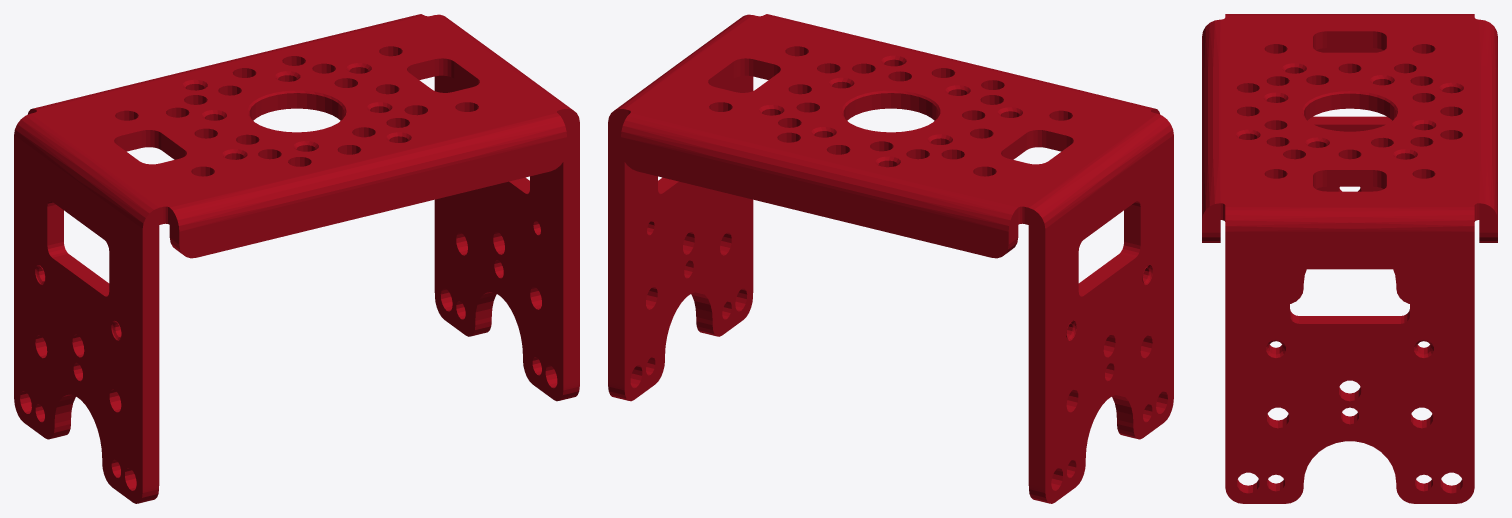
File: hand_pitch.obj
3 views of the same model, side by side, from view 1: azimuth 30°, elevation 25°; view 2: azimuth 150°, elevation 25°; view 3: azimuth 270°, elevation 25° (orthographic). The views are drawn at different scales.
Visible parts, largest first — view 1: メッシュ フィーチャ1_1; view 2: メッシュ フィーチャ1_1; view 3: メッシュ フィーチャ1_1.
Boxes of the visible parts, x1,y1,x2,y2 form: メッシュ フィーチャ1_1: [14, 14, 579, 503]; メッシュ フィーチャ1_1: [608, 14, 1173, 503]; メッシュ フィーチャ1_1: [1202, 14, 1497, 503].
Bounding box in the file's own units: 53 × 34.5 × 32.
